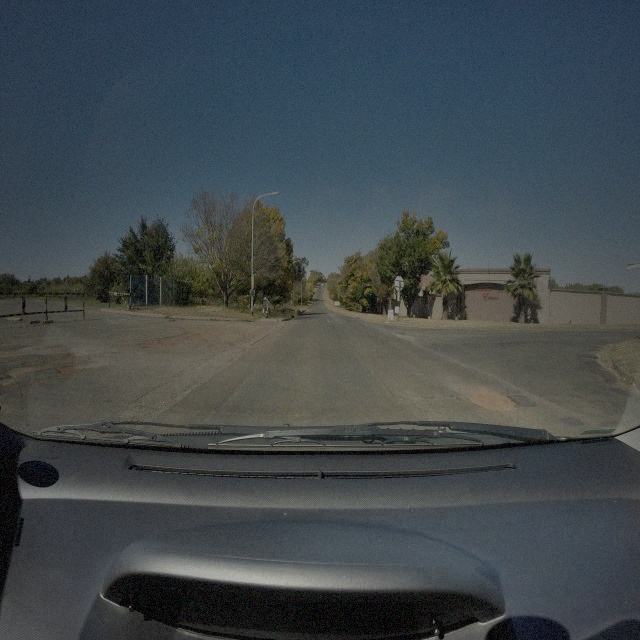pothole: (459, 382, 520, 415), (157, 328, 199, 346), (8, 365, 52, 372), (1, 376, 17, 388), (55, 366, 74, 375)
